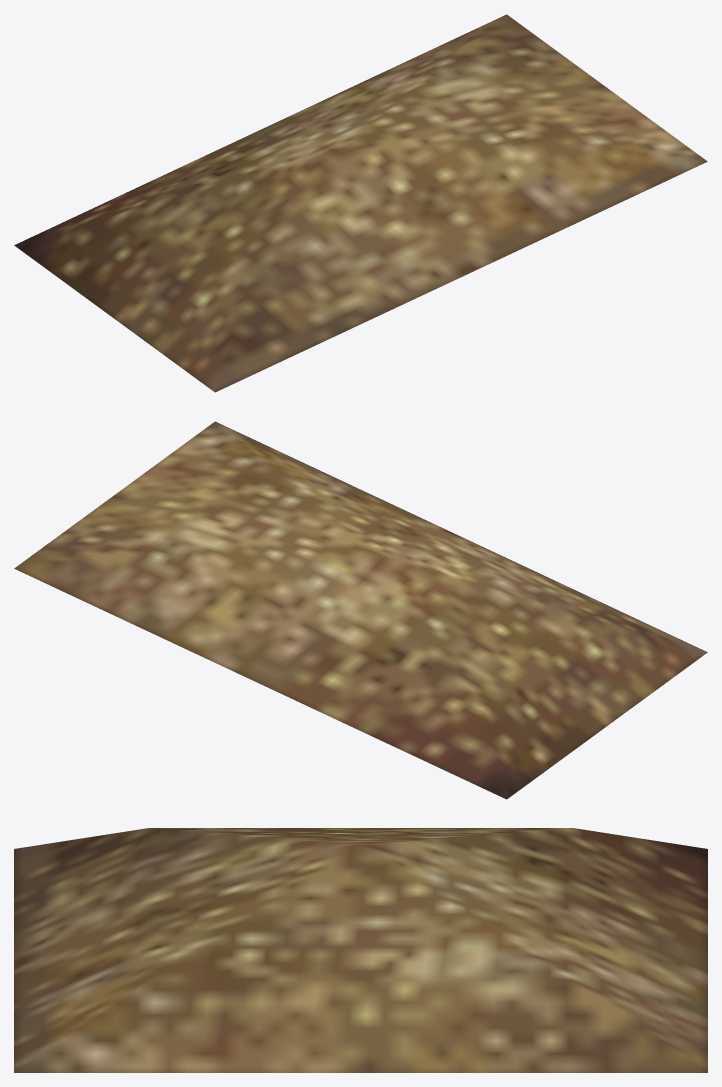
File: OZ_20_wv_T04grain03A.glb
3 views of the same model, one above another, from view 1: azimuth 30°, elevation 25°; view 2: azimuth 150°, elevation 25°; view 3: azimuth 270°, elevation 25° (orthographic). The views are drawn at different scales.
Parts seen in each view (by area): view 1: OM_20_wv_T04grain03A; view 2: OM_20_wv_T04grain03A; view 3: OM_20_wv_T04grain03A.
Boxes of the visible parts, bbox=[...] form: OM_20_wv_T04grain03A: bbox=[14, 14, 707, 392]; OM_20_wv_T04grain03A: bbox=[14, 421, 707, 799]; OM_20_wv_T04grain03A: bbox=[14, 828, 707, 1072].
Size of the model in its own units: 0.5465 by 0.1265 by 0.3864.
Materials: 1 (1 with a texture image).
